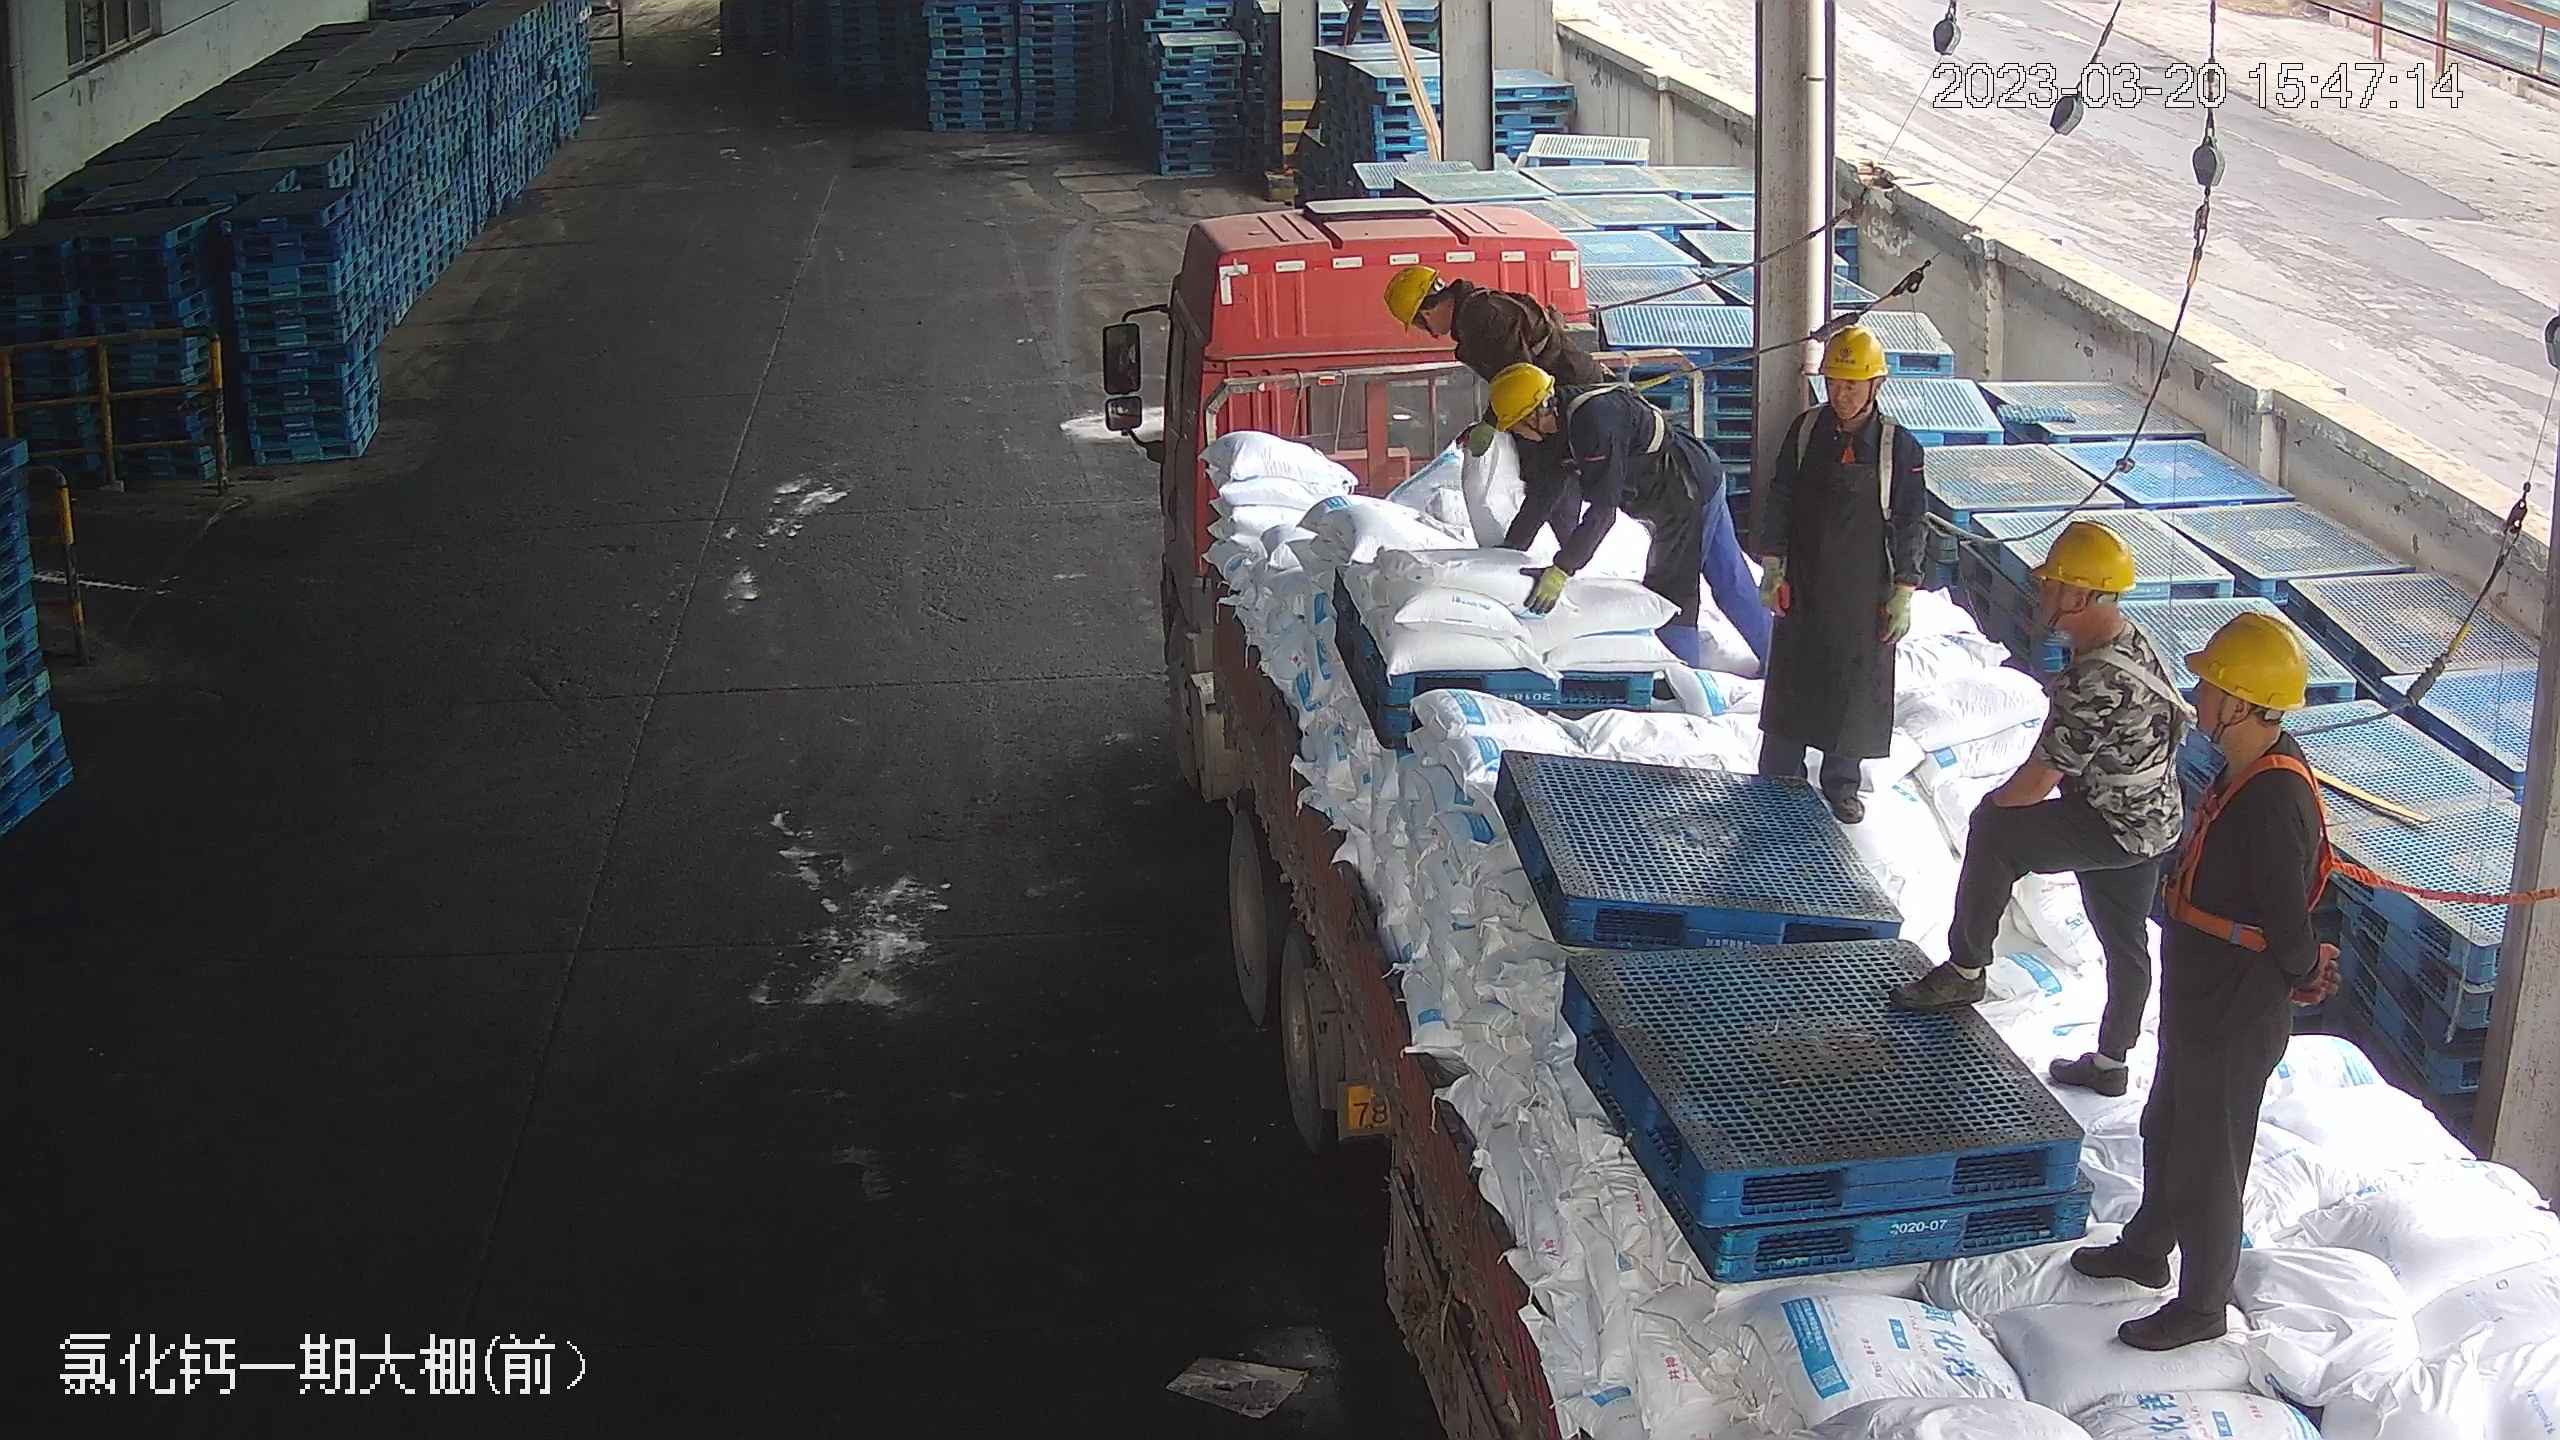belt: (2159, 742, 2354, 955), (2059, 625, 2183, 783), (1563, 365, 1669, 466), (1806, 395, 1903, 479), (1460, 279, 1556, 363)
head: (2171, 606, 2327, 836), (2015, 516, 2168, 715), (1770, 321, 1924, 484), (1489, 362, 1629, 467), (1385, 261, 1528, 354)
helmet: (2184, 606, 2308, 712), (2026, 513, 2139, 598), (1486, 360, 1556, 434), (1816, 320, 1888, 379), (1384, 260, 1440, 329)
people: (2068, 602, 2344, 1353), (1902, 518, 2182, 1070), (1752, 317, 1925, 823), (1483, 355, 1749, 679), (1385, 260, 1587, 560)
truck: (1118, 168, 2543, 1440)
